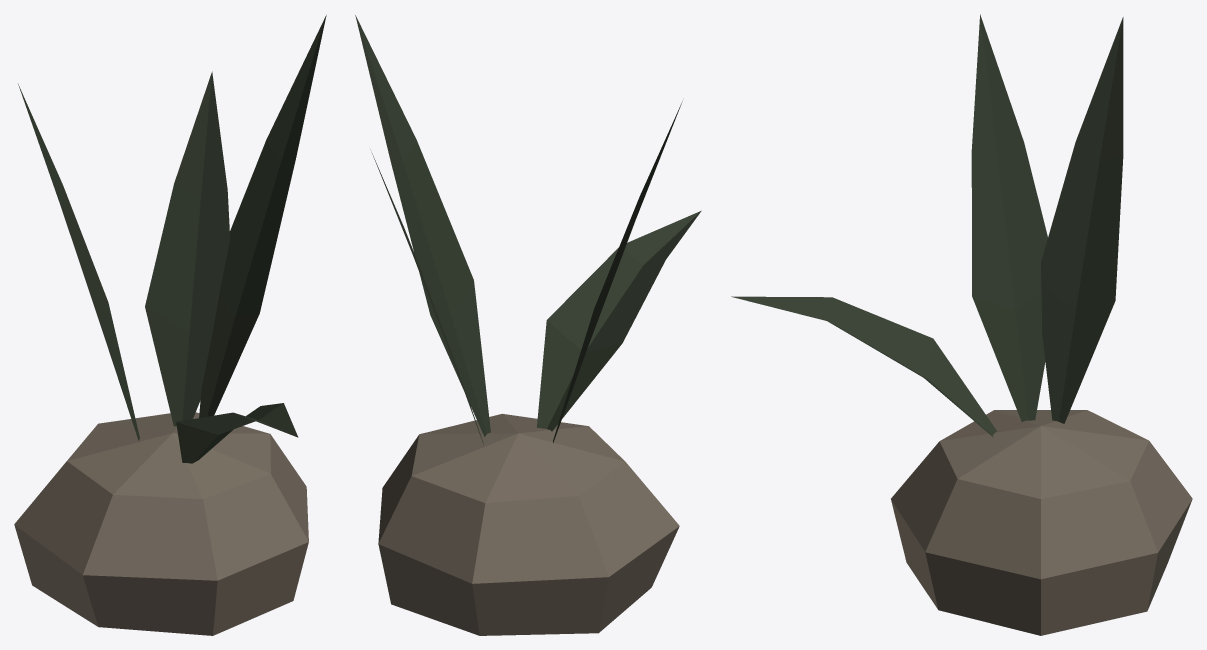
File: boneroot_s1.glb
3 views of the same model, side by side, from view 1: azimuth 30°, elevation 25°; view 2: azimuth 150°, elevation 25°; view 3: azimuth 270°, elevation 25° (orthographic).
Visible parts, largest first — view 1: boneroot_s1; view 2: boneroot_s1; view 3: boneroot_s1.
Part boxes in pixels (box(x1,y1,x2,y2)): boneroot_s1: box(14, 15, 326, 635); boneroot_s1: box(355, 15, 701, 635); boneroot_s1: box(731, 14, 1192, 635).
Size of the model in its own units: 0.1236 by 0.2133 by 0.1681.
